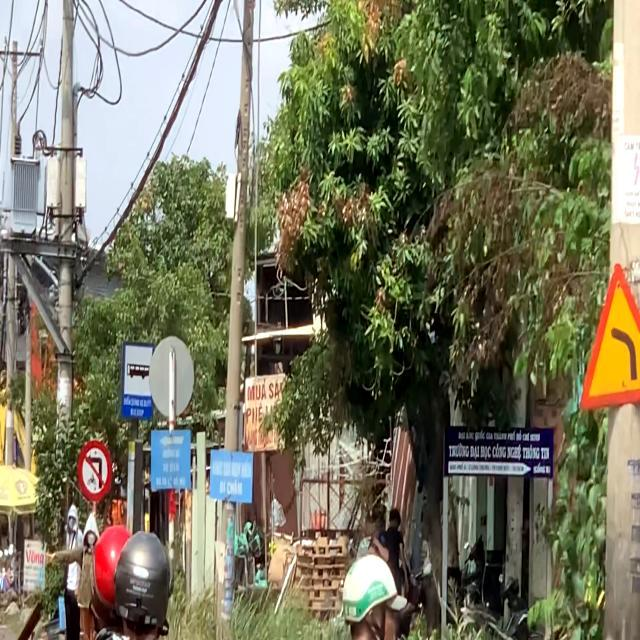Ben xe buyt: (119, 338, 154, 421)
